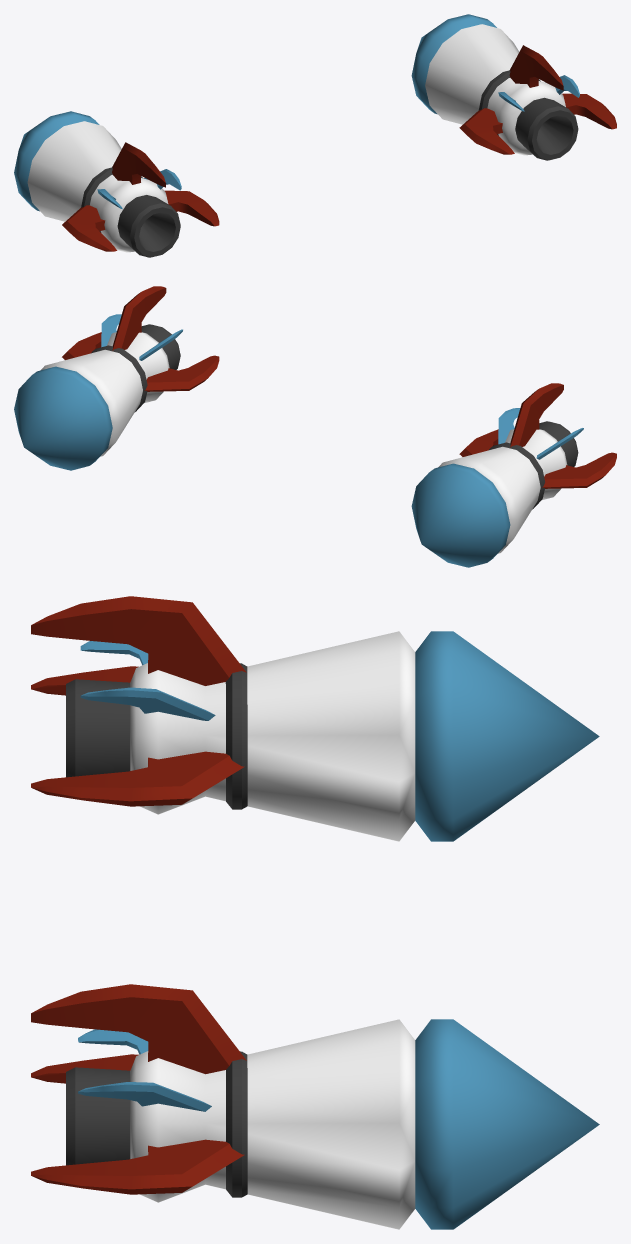
File: Rocket level 2.fbx
The picture shows the model from 3 angles, top to bottom: view 1: azimuth 30°, elevation 25°; view 2: azimuth 150°, elevation 25°; view 3: azimuth 270°, elevation 25°; orthographic projection. The views are drawn at different scales.
Visible parts, largest first — view 1: rocket2 base left, rocket2 base right, Rocket2 flaps1 left, Rocket2 flaps1 right, Rocket2 flaps2 left, Rocket2 flaps2 right; view 2: rocket2 base right, rocket2 base left, Rocket2 flaps1 right, Rocket2 flaps1 left, Rocket2 flaps2 left, Rocket2 flaps2 right; view 3: rocket2 base right, rocket2 base left, Rocket2 flaps1 right, Rocket2 flaps1 left, Rocket2 flaps2 right, Rocket2 flaps2 left.
Part boxes in pixels (x1,y1,x2,y2): rocket2 base left: [14, 111, 180, 257]; rocket2 base right: [411, 14, 578, 160]; Rocket2 flaps1 left: [62, 142, 219, 251]; Rocket2 flaps1 right: [459, 45, 616, 154]; Rocket2 flaps2 left: [97, 169, 181, 209]; Rocket2 flaps2 right: [498, 75, 579, 111]; rocket2 base right: [14, 324, 180, 470]; rocket2 base left: [411, 421, 578, 567]; Rocket2 flaps1 right: [62, 286, 219, 391]; Rocket2 flaps1 left: [459, 383, 616, 488]; Rocket2 flaps2 left: [498, 408, 583, 459]; Rocket2 flaps2 right: [101, 314, 182, 360]; rocket2 base right: [66, 1019, 599, 1229]; rocket2 base left: [66, 631, 599, 841]; Rocket2 flaps1 right: [31, 984, 246, 1194]; Rocket2 flaps1 left: [31, 596, 246, 806]; Rocket2 flaps2 right: [78, 1029, 211, 1111]; Rocket2 flaps2 left: [80, 641, 215, 720].
Size of the model in its own units: 5.93 by 1.25 by 2.75.
Materials: 1 (1 with a texture image).
